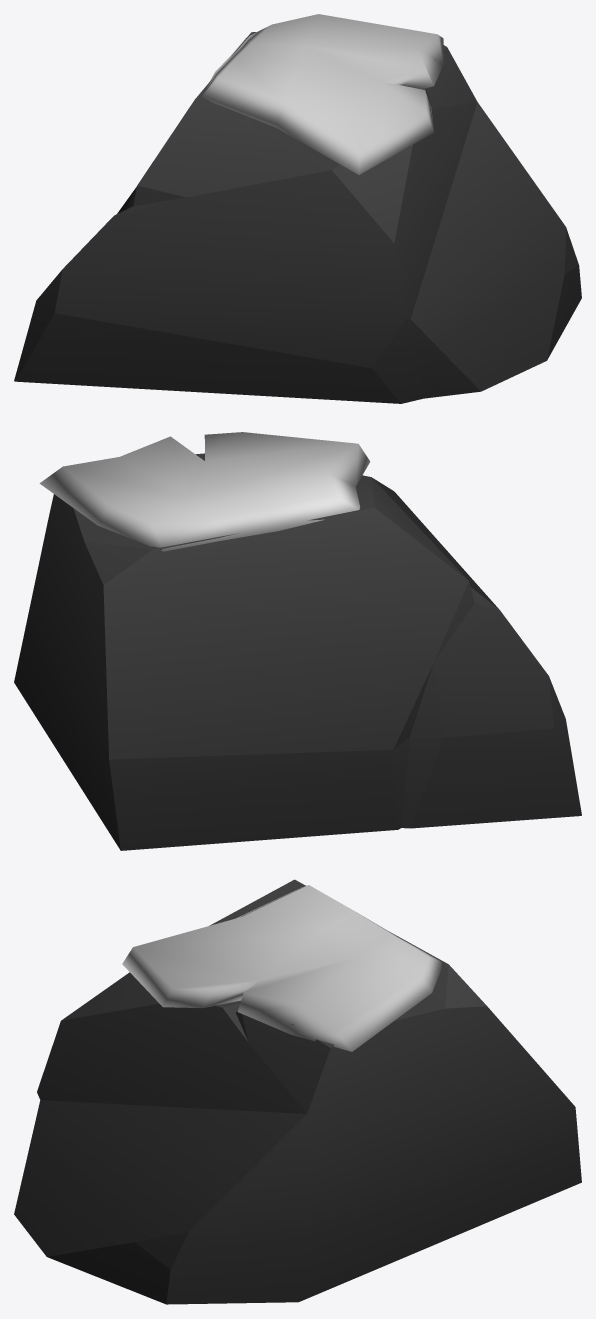
File: winter-rock-2.fbx
3 renders of one model, top to bottom at view 1: azimuth 30°, elevation 25°; view 2: azimuth 150°, elevation 25°; view 3: azimuth 270°, elevation 25°, orthographic. The views are drawn at different scales.
Parts seen in each view (by area): view 1: RBi6; view 2: RBi6; view 3: RBi6.
Boxes of the visible parts, box(x1,y1,x2,y2) form: RBi6: box(14, 14, 581, 403); RBi6: box(14, 432, 581, 850); RBi6: box(14, 879, 581, 1304).
Bounding box in the file's own units: 250 × 114 × 223.
